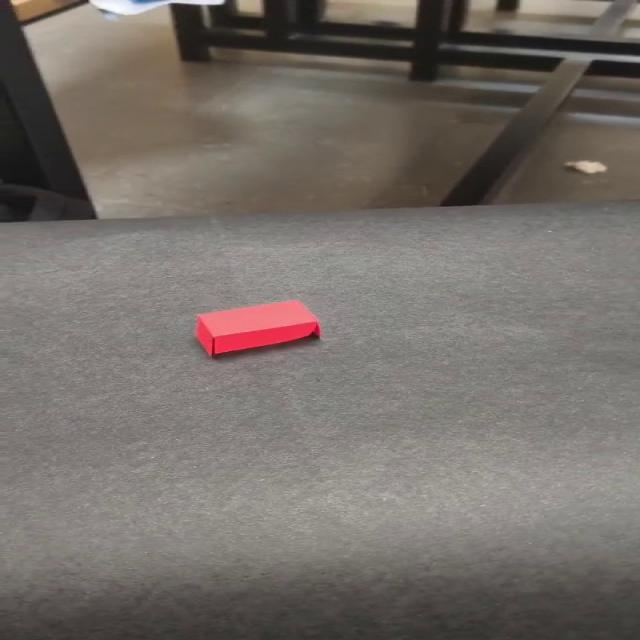red block: (193, 298, 320, 356)
